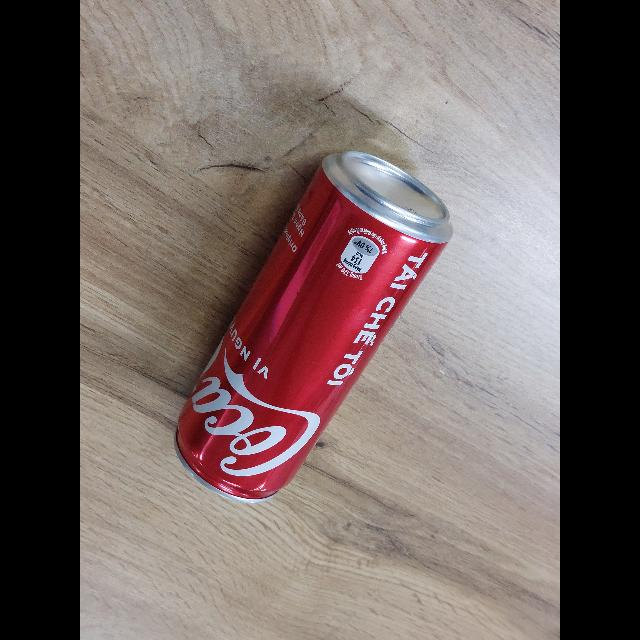coca_cola: (174, 148, 454, 500)
